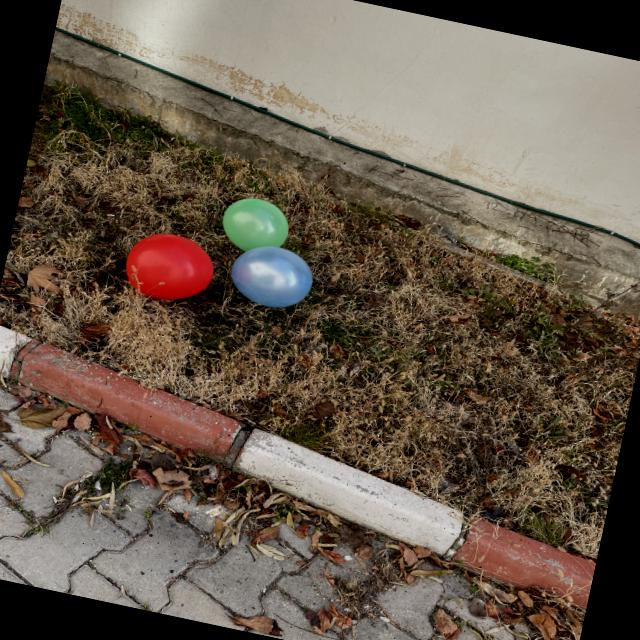balloon: (125, 234, 213, 299), (231, 246, 312, 307), (222, 198, 288, 250), (300, 266, 300, 267)
